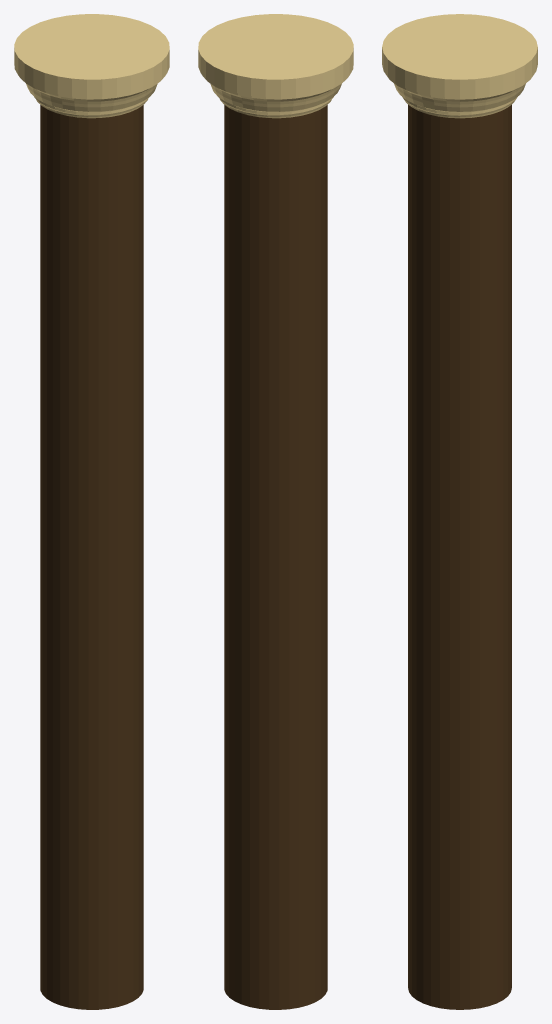
Rendered from LP_P_WoodenColumn.fbx.
3 renders of one model, left to right at view 1: azimuth 30°, elevation 25°; view 2: azimuth 150°, elevation 25°; view 3: azimuth 270°, elevation 25°, orthographic.
Visible parts, largest first — view 1: LP_P_WoodenColumn; view 2: LP_P_WoodenColumn; view 3: LP_P_WoodenColumn.
Part boxes in pixels (x1,y1,x2,y2): LP_P_WoodenColumn: [14, 14, 169, 1009]; LP_P_WoodenColumn: [198, 14, 353, 1009]; LP_P_WoodenColumn: [382, 14, 537, 1009].
Bounding box in the file's own units: 210 × 1400 × 210.
